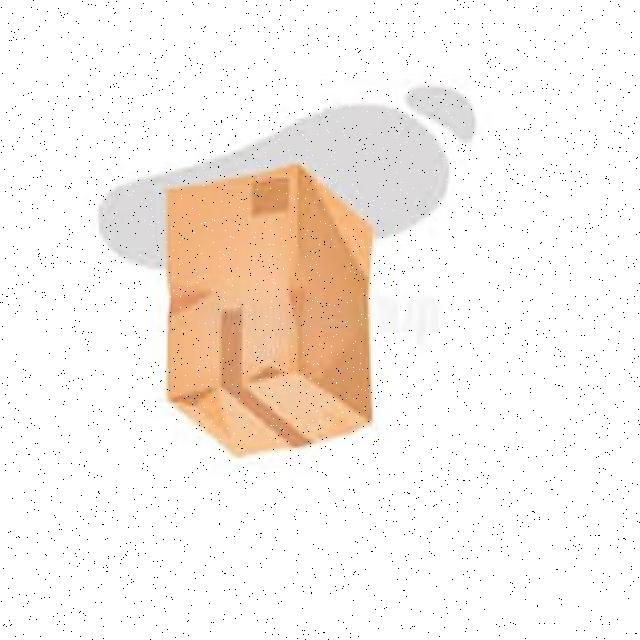defect: (158, 165, 374, 462)
